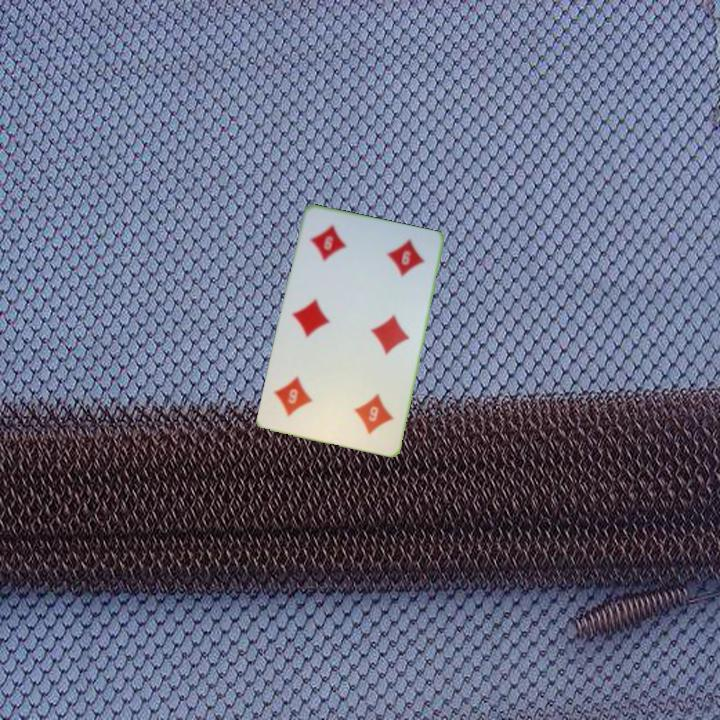d_6.png: (299, 214, 375, 284), (326, 377, 403, 446)
